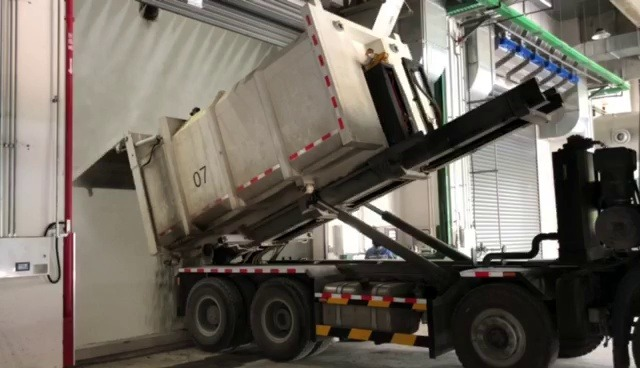dust: (80, 200, 145, 342)
truck: (120, 0, 639, 368)
